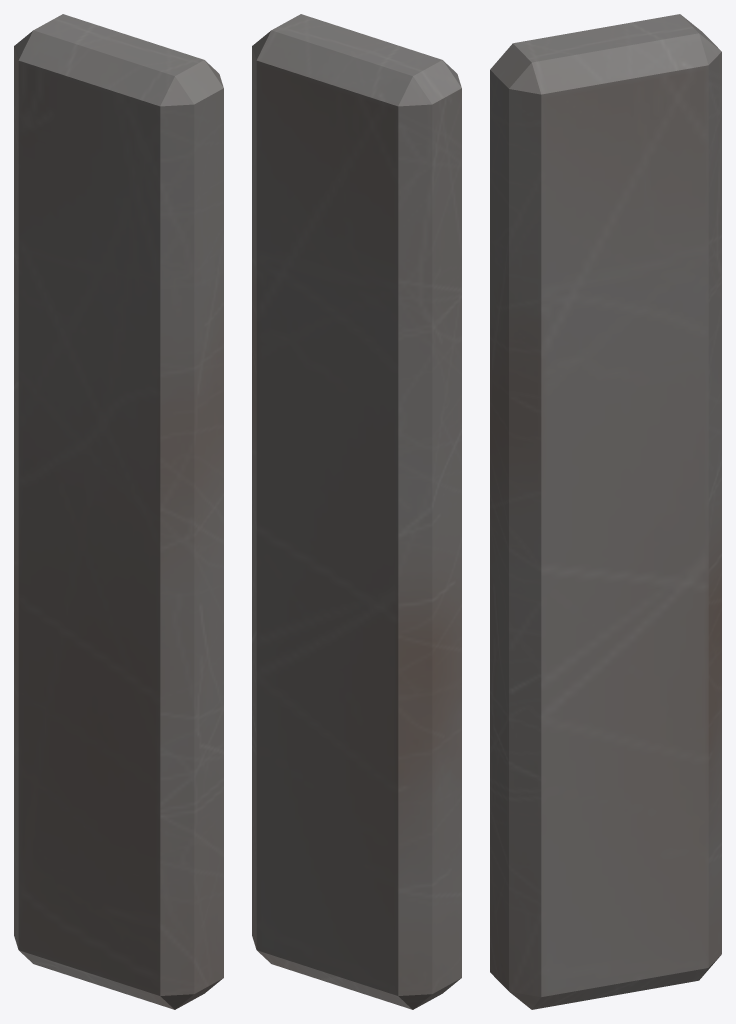
Rendered from tesuri_soto_poll.fbx.
3 views of the same model, side by side, from view 1: azimuth 30°, elevation 25°; view 2: azimuth 210°, elevation 25°; view 3: azimuth 270°, elevation 25° (orthographic).
Parts seen in each view (by area): view 1: pCube14; view 2: pCube14; view 3: pCube14.
Part boxes in pixels (<box>): pCube14: <box>14,14,223,1009</box>; pCube14: <box>252,14,461,1009</box>; pCube14: <box>490,14,721,1009</box>.
Bounding box in the file's own units: 0.1382 × 0.9 × 0.1996.
1 material, 1 textured.
